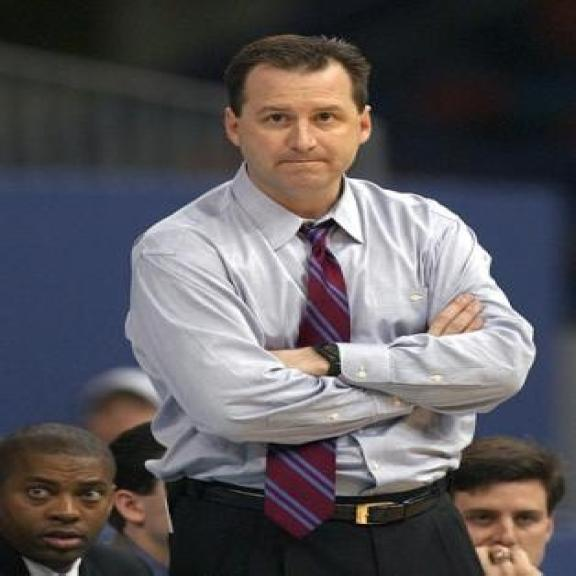face: (217, 50, 376, 188), (14, 440, 117, 564), (460, 475, 568, 576)
